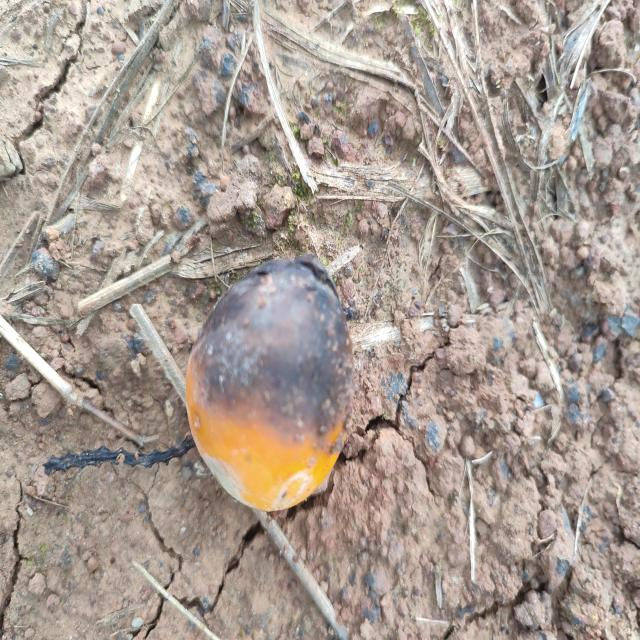damaged: (182, 258, 356, 516)
